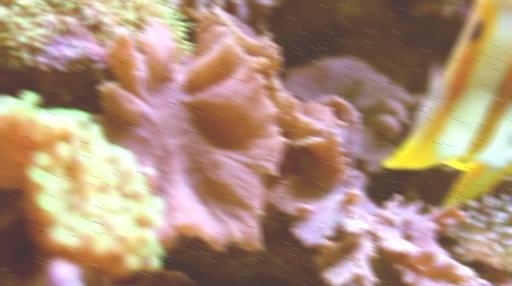Fish: (383, 0, 511, 204)
